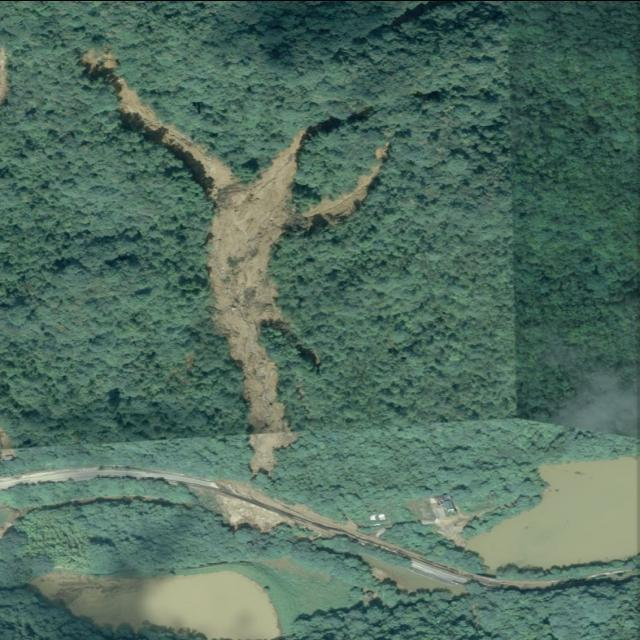landslide: (117, 79, 389, 472)
